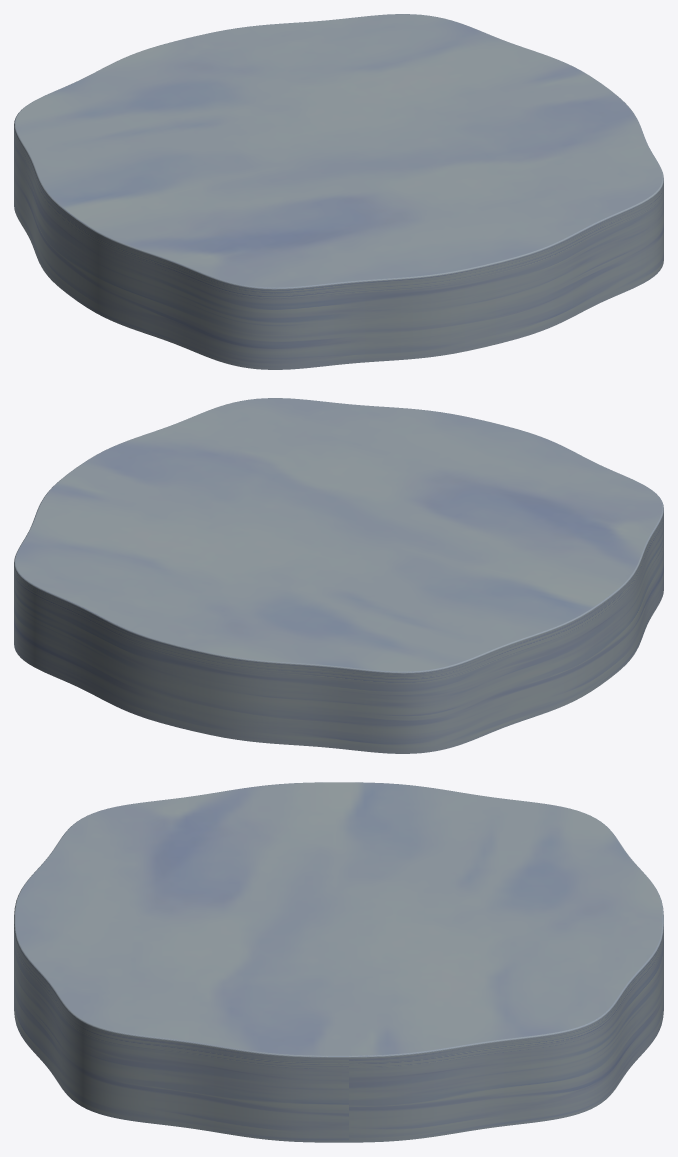
The model's file is starter-04.glb.
The picture shows the model from 3 angles, top to bottom: view 1: azimuth 30°, elevation 25°; view 2: azimuth 150°, elevation 25°; view 3: azimuth 270°, elevation 25°; orthographic projection. The views are drawn at different scales.
Parts seen in each view (by area): view 1: geometry_0; view 2: geometry_0; view 3: geometry_0.
Part boxes in pixels (<box>): geometry_0: <box>14,14,663,369</box>; geometry_0: <box>14,398,663,753</box>; geometry_0: <box>14,782,663,1142</box>.
Bounding box in the file's own units: 40.95 × 6 × 40.95.
1 material, 1 textured.
